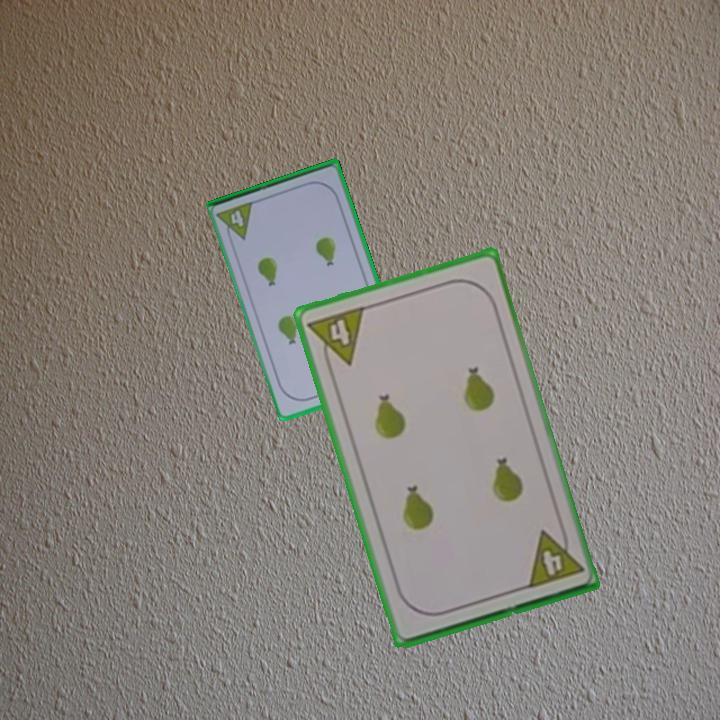4p: (304, 302, 368, 374), (523, 522, 586, 592), (214, 198, 257, 246)
